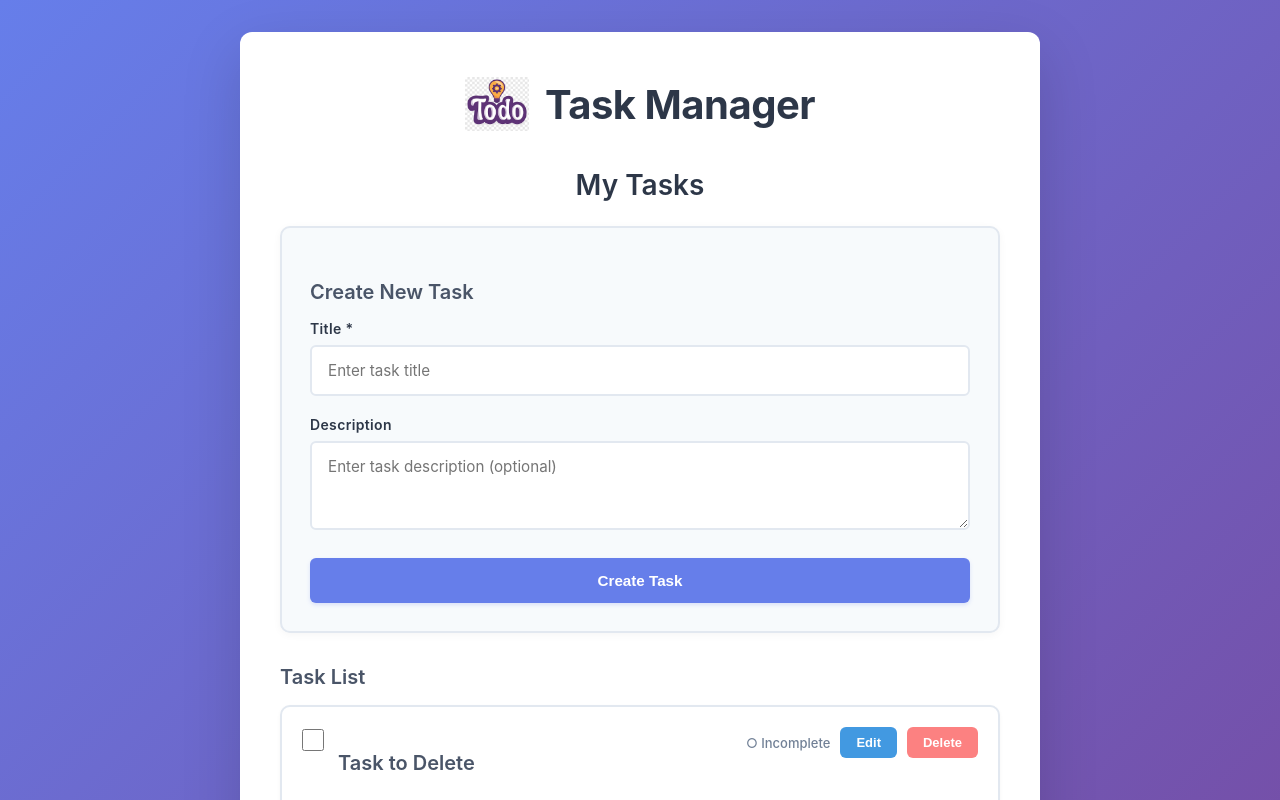
Test case: App Component › Integration Tests - Complete User Flows › Task Deletion Flow › should complete full task deletion flow: delete button → removal
Check: the heading "Task to Delete" is shown, box [338, 751, 475, 775]
# Click delete button
What coordinates should you click on to do the following:
click the button named "delete task \"task to delete\""
I would click on:
 (942, 742)
Its box is [907, 727, 978, 758].
(page scrolled)
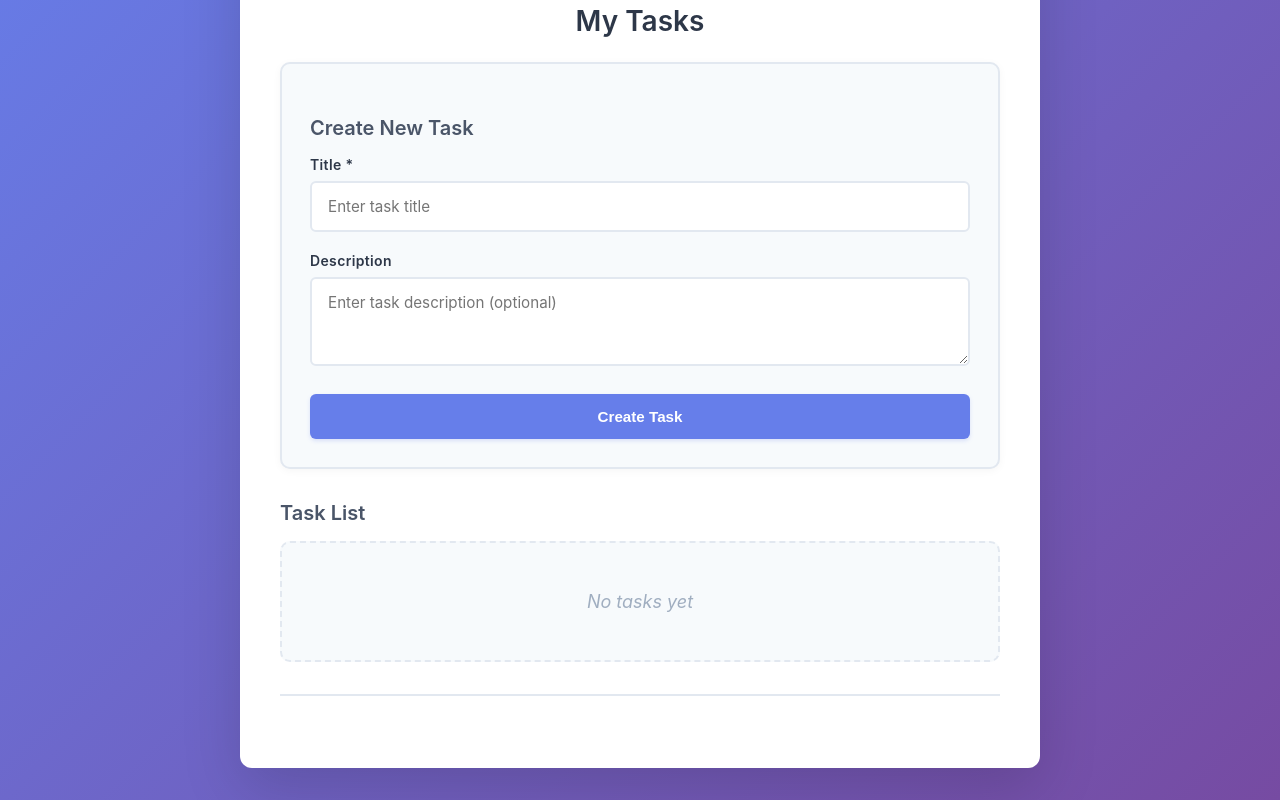
Check: the heading "Task to Delete" is gone
Check: the text "No tasks yet" is shown, box [280, 541, 1000, 662]
